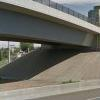Bridge: (2, 0, 97, 50)
